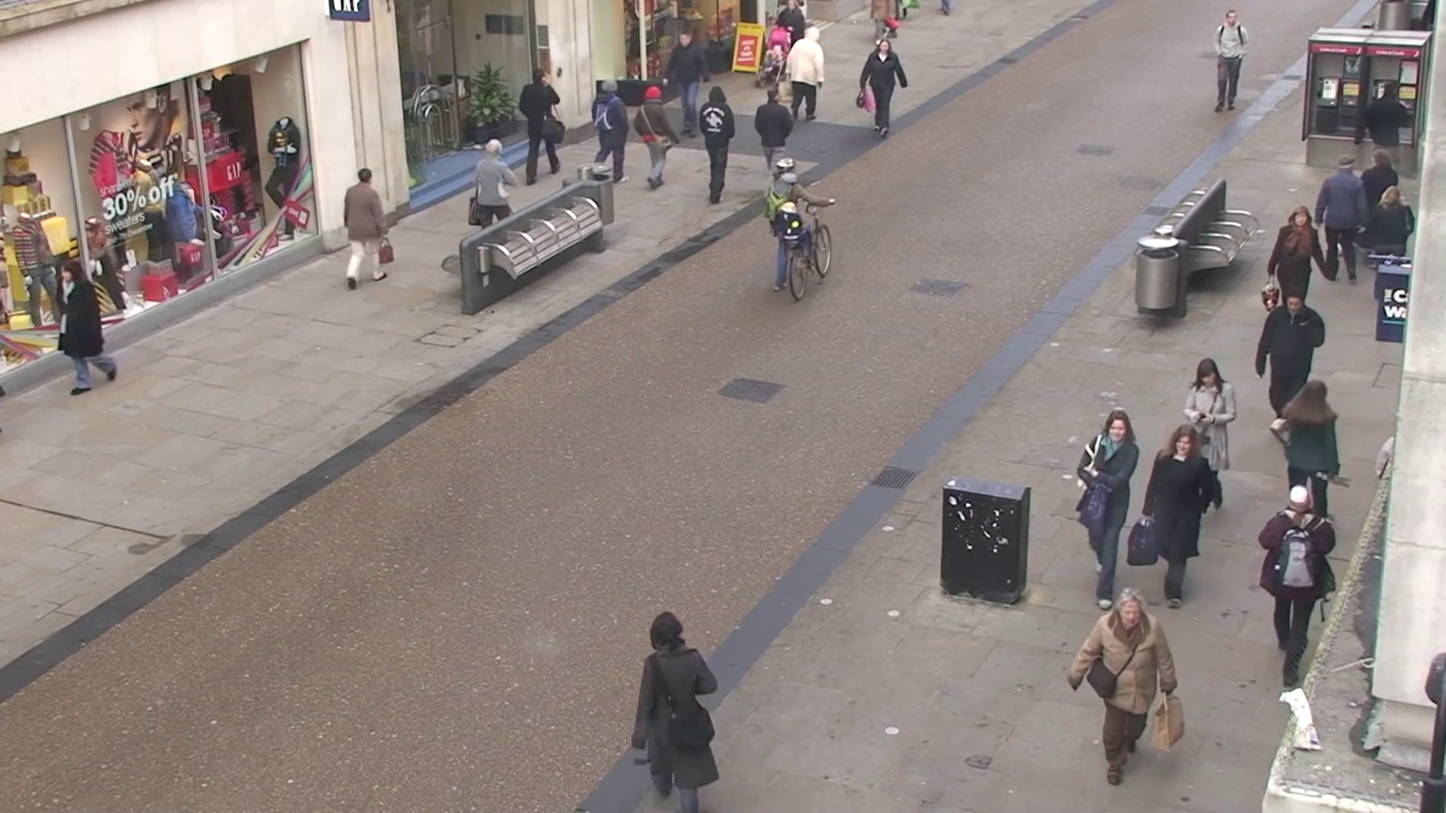person: (1066, 588, 1174, 789), (634, 611, 722, 811), (1256, 483, 1338, 695), (1142, 424, 1223, 606), (1074, 408, 1139, 603), (1255, 284, 1329, 425), (1271, 374, 1344, 516), (1315, 154, 1370, 284), (1183, 357, 1237, 476), (343, 168, 395, 291), (60, 263, 108, 394), (517, 67, 567, 182), (466, 137, 514, 256), (857, 34, 909, 136), (1267, 207, 1319, 309), (631, 84, 678, 191), (698, 84, 736, 204), (786, 19, 826, 123), (590, 81, 630, 184), (1213, 10, 1252, 114), (755, 86, 795, 169)
